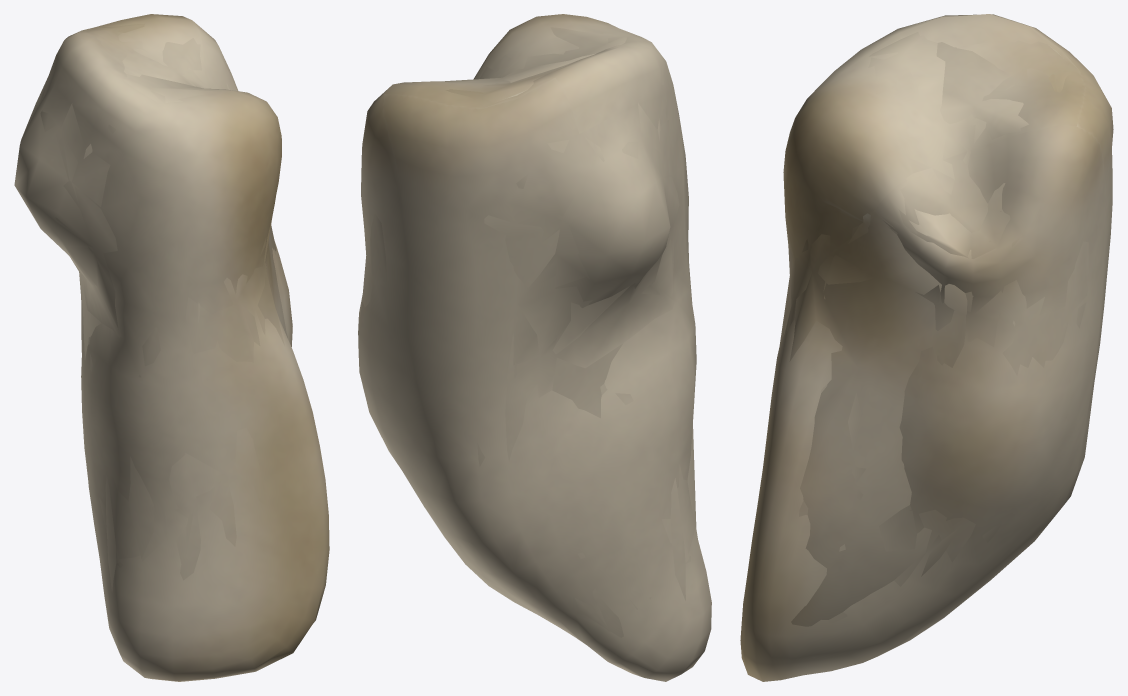
File: R tarsale quartum et quintum.fbx
3 views of the same model, side by side, from view 1: azimuth 30°, elevation 25°; view 2: azimuth 150°, elevation 25°; view 3: azimuth 270°, elevation 25° (orthographic). The views are drawn at different scales.
Parts seen in each view (by area): view 1: R tarsale quartum et quintum high, R tarsale quartum et quintum, R tarsale quartum et quintum low; view 2: R tarsale quartum et quintum high, R tarsale quartum et quintum, R tarsale quartum et quintum low; view 3: R tarsale quartum et quintum high, R tarsale quartum et quintum low, R tarsale quartum et quintum.
Part boxes in pixels (bbox=[...]): R tarsale quartum et quintum high: bbox=[14, 14, 329, 681]; R tarsale quartum et quintum: bbox=[40, 23, 275, 580]; R tarsale quartum et quintum low: bbox=[37, 25, 287, 592]; R tarsale quartum et quintum high: bbox=[358, 14, 711, 681]; R tarsale quartum et quintum: bbox=[361, 27, 696, 644]; R tarsale quartum et quintum low: bbox=[442, 53, 696, 631]; R tarsale quartum et quintum high: bbox=[740, 14, 1113, 681]; R tarsale quartum et quintum low: bbox=[783, 42, 1056, 626]; R tarsale quartum et quintum: bbox=[779, 32, 1088, 657].
Bounding box in the file's own units: 3.29 × 7.13 × 3.77.
